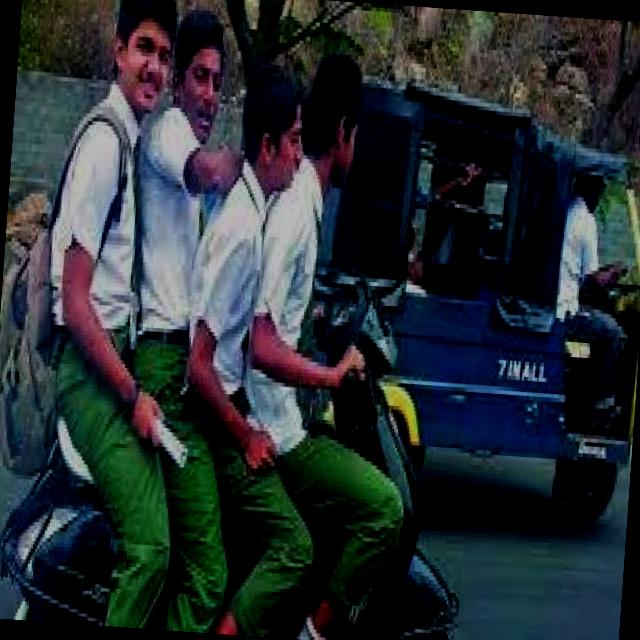motorcycle: (0, 255, 487, 640)
person: (256, 40, 444, 619), (38, 0, 235, 526), (112, 3, 266, 450), (180, 58, 312, 473)
